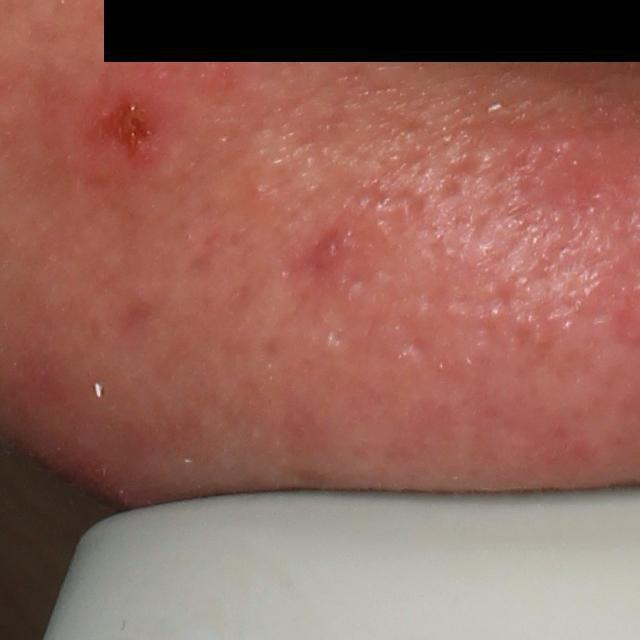papule: (79, 70, 193, 190)
